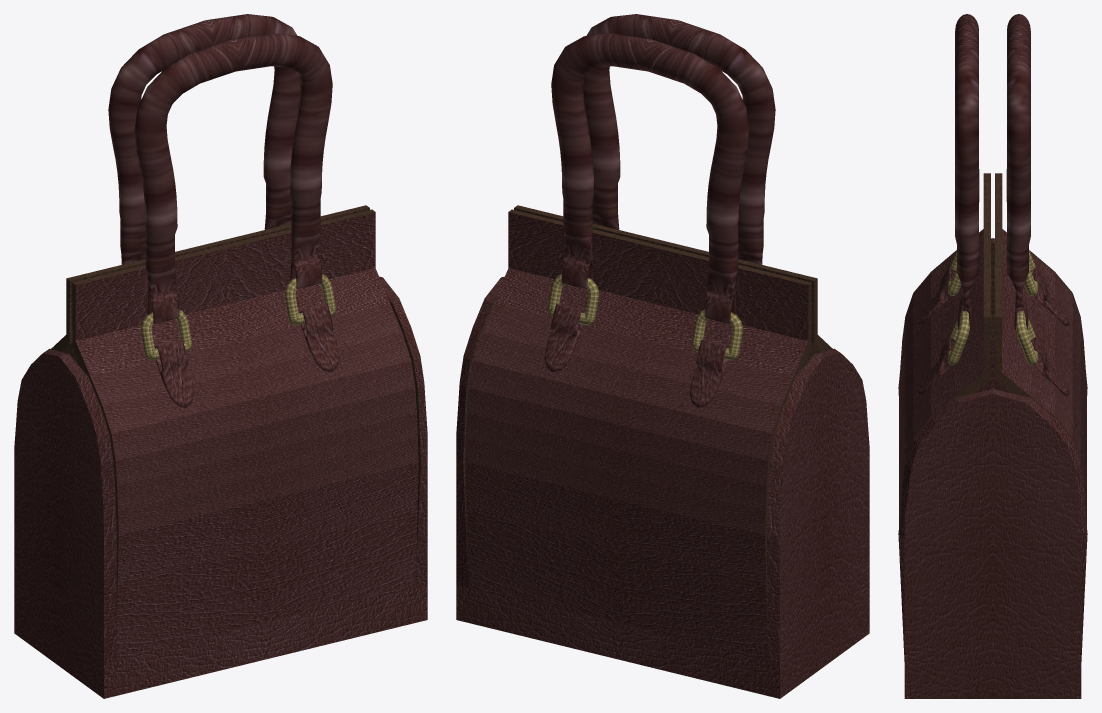
Rendered from bolso2Vacio.obj.
3 renders of one model, left to right at view 1: azimuth 30°, elevation 25°; view 2: azimuth 150°, elevation 25°; view 3: azimuth 270°, elevation 25°, orthographic.
Parts seen in each view (by area): view 1: Cube.002_Cube.003, Cube.001_Cube.002; view 2: Cube.002_Cube.003, Cube.001_Cube.002; view 3: Cube.001_Cube.002, Cube.002_Cube.003.
Part boxes in pixels (bbox=[...]): Cube.002_Cube.003: bbox=[51, 14, 418, 659]; Cube.001_Cube.002: bbox=[14, 276, 427, 698]; Cube.002_Cube.003: bbox=[465, 14, 832, 659]; Cube.001_Cube.002: bbox=[456, 276, 869, 698]; Cube.001_Cube.002: bbox=[898, 238, 1087, 698]; Cube.002_Cube.003: bbox=[899, 14, 1086, 525].
Size of the model in its own units: 0.8919 by 1.57 by 0.4577.
